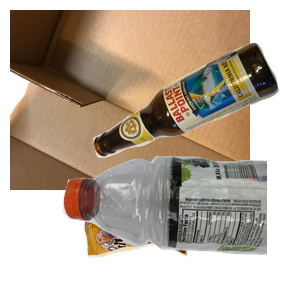cardboard: (10, 10, 250, 190)
glass: (91, 40, 300, 190)
plastic: (60, 152, 300, 300)
trash: (81, 168, 261, 300)
